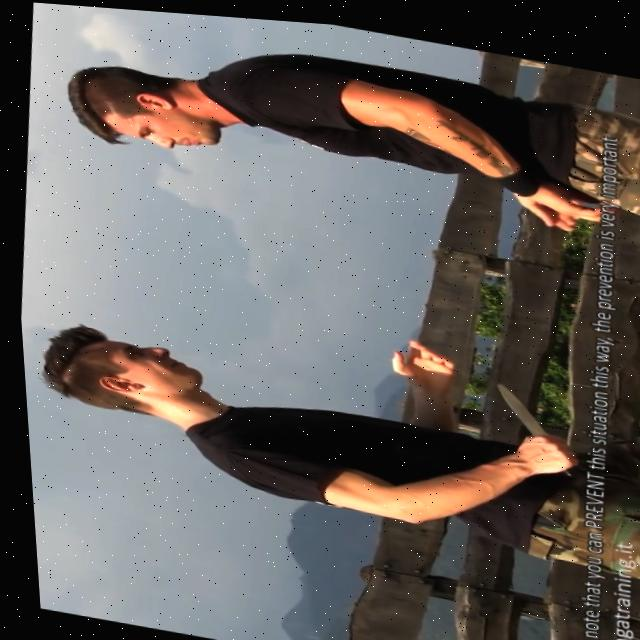knife: (483, 373, 545, 428)
